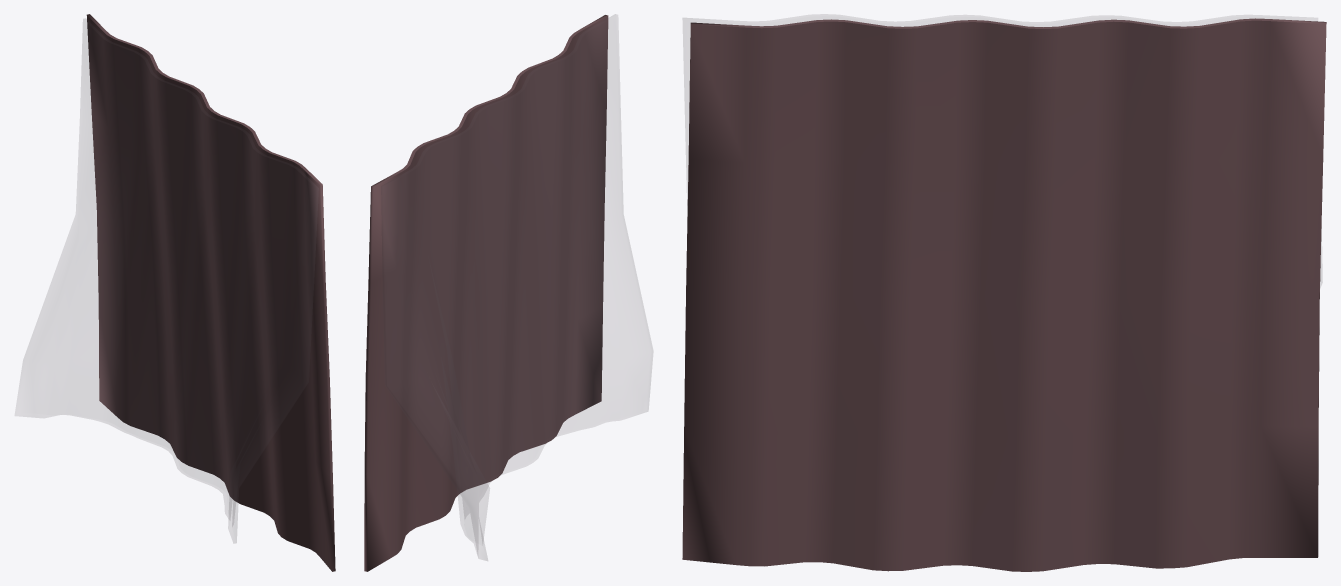
File: prop_ShowerCurtainsClosed.fbx
3 views of the same model, side by side, from view 1: azimuth 30°, elevation 25°; view 2: azimuth 150°, elevation 25°; view 3: azimuth 270°, elevation 25° (orthographic). The views are drawn at different scales.
Parts seen in each view (by area): view 1: ShowerCurtainsClosed; view 2: ShowerCurtainsClosed; view 3: ShowerCurtainsClosed.
Boxes of the visible parts, x1,y1,x2,y2 form: ShowerCurtainsClosed: [15, 14, 335, 571]; ShowerCurtainsClosed: [364, 14, 652, 571]; ShowerCurtainsClosed: [682, 14, 1326, 571].
Size of the model in its own units: 334 by 1040 by 1139.
